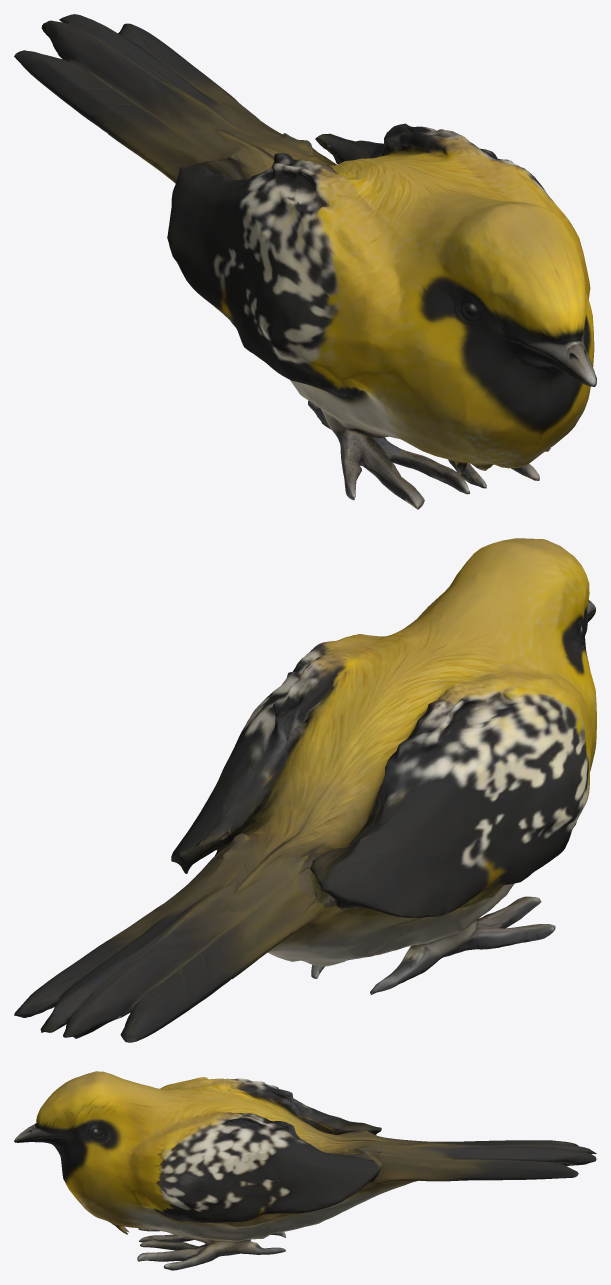
File: Golden_Finch_0514190736_texture.fbx
The picture shows the model from 3 angles, top to bottom: view 1: azimuth 30°, elevation 25°; view 2: azimuth 150°, elevation 25°; view 3: azimuth 270°, elevation 25°; orthographic projection. The views are drawn at different scales.
Parts seen in each view (by area): view 1: Mesh_0; view 2: Mesh_0; view 3: Mesh_0.
Boxes of the visible parts, x1=… form: Mesh_0: x1=14, y1=14, x2=596, y2=509; Mesh_0: x1=14, y1=538, x2=596, y2=1042; Mesh_0: x1=14, y1=1071, x2=596, y2=1270.
Size of the model in its own units: 63.69 by 64.43 by 199.
Materials: 1 (1 with a texture image).
